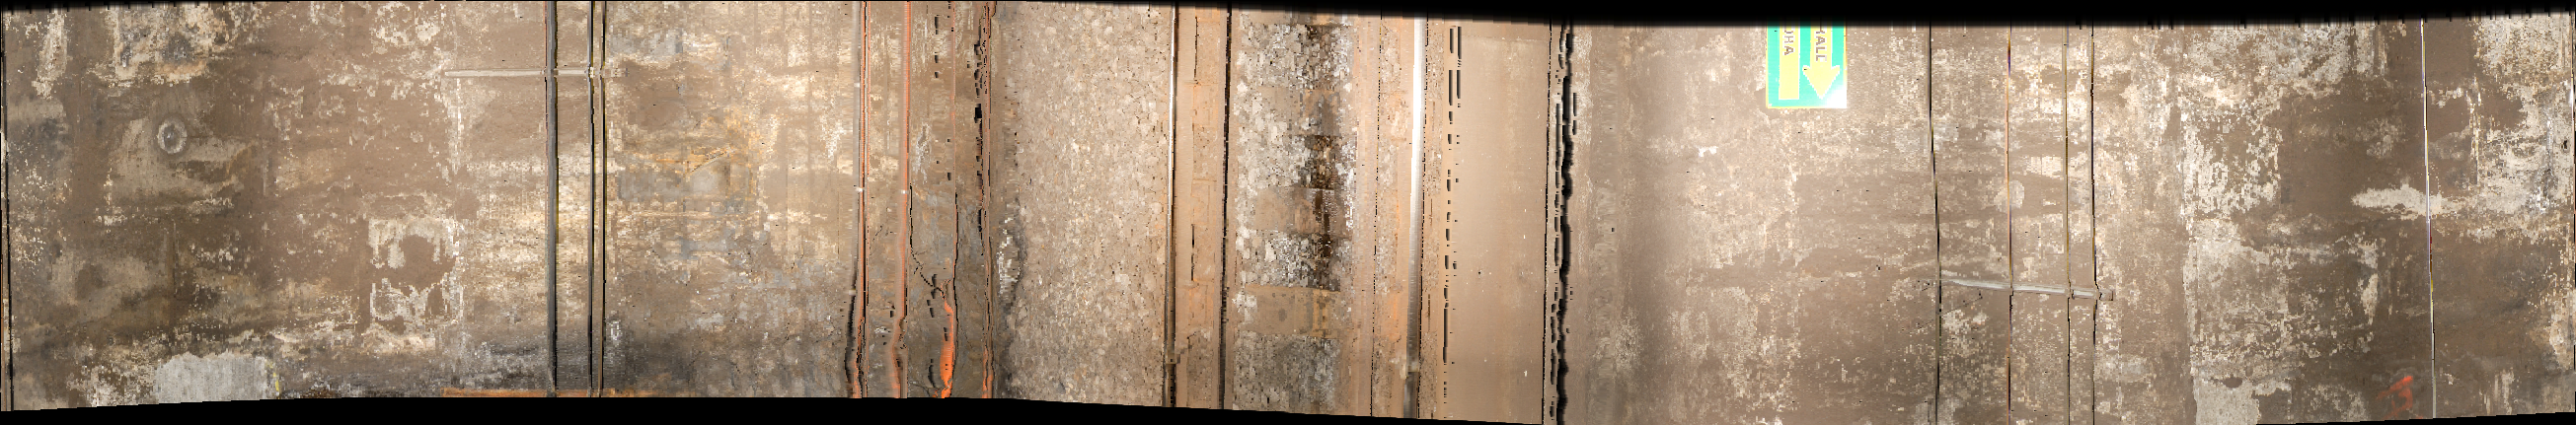pipes: (1919, 23, 2104, 425), (856, 2, 992, 405), (542, 2, 618, 410), (2413, 11, 2441, 425)
sign: (1766, 16, 1851, 102)
tracks: (1166, 18, 1457, 425)
